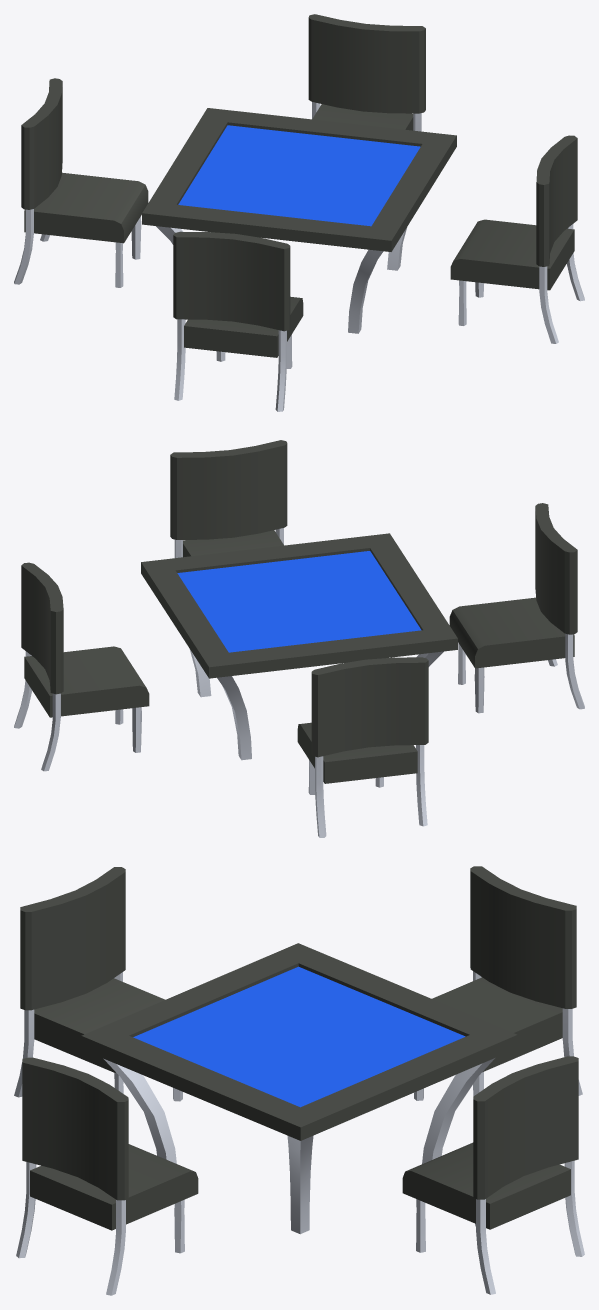
Rendered from Table_with_Chairs.glb.
3 renders of one model, top to bottom at view 1: azimuth 30°, elevation 25°; view 2: azimuth 150°, elevation 25°; view 3: azimuth 270°, elevation 25°, orthographic. The views are drawn at different scales.
Visible parts, largest first — view 1: Outside_Table; view 2: Outside_Table; view 3: Outside_Table.
Part boxes in pixels (<box>): Outside_Table: <box>14,14,584,411</box>; Outside_Table: <box>14,440,584,837</box>; Outside_Table: <box>14,866,584,1295</box>.
Size of what is drawn, in the model's own units: 3.7 by 1.37 by 3.7.
1 material, 1 textured.
